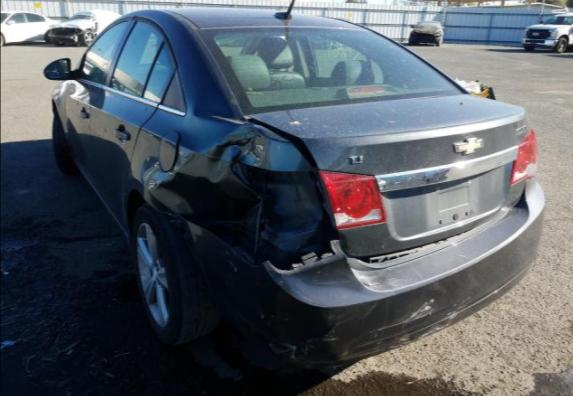Broken part: (188, 180, 546, 366), (239, 115, 346, 253)
Dent: (138, 121, 326, 264)
Flaking: (375, 168, 449, 190)
Missing part: (434, 180, 473, 221)
Scratch: (376, 300, 434, 331), (249, 197, 263, 259), (239, 138, 266, 168), (303, 331, 337, 354), (269, 345, 296, 359), (145, 162, 158, 179), (440, 311, 458, 322), (168, 165, 178, 174), (148, 181, 157, 190), (146, 158, 150, 162)
